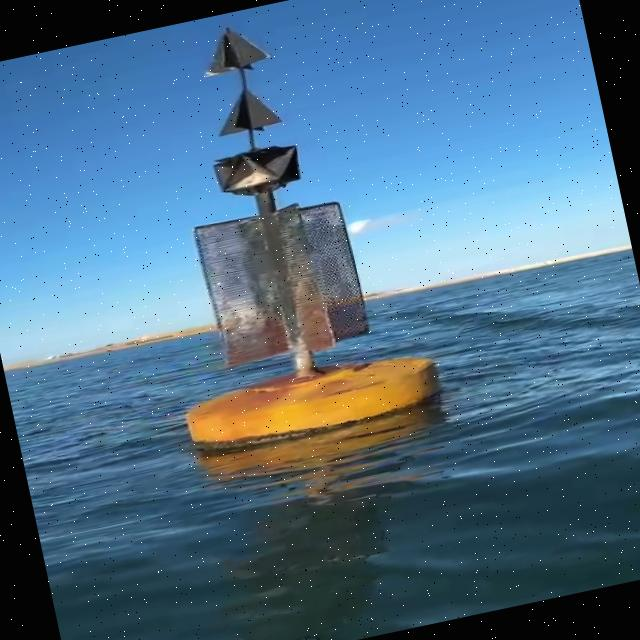marque: (99, 1, 456, 465)
